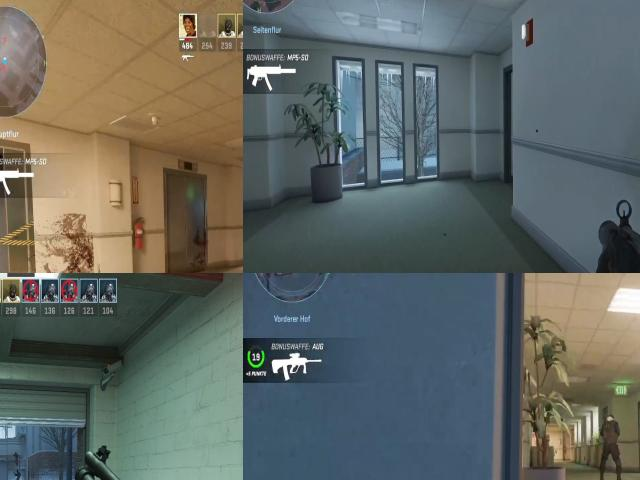CT: (600, 408, 621, 469), (15, 469, 20, 480), (15, 451, 18, 465)
CT-Head: (605, 412, 616, 427), (16, 470, 19, 472), (15, 452, 17, 454)
